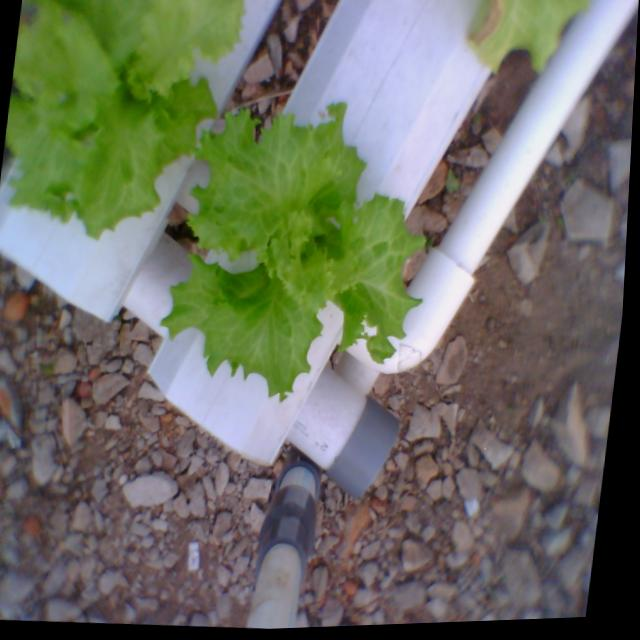FN: (157, 74, 454, 417), (0, 0, 256, 267)
